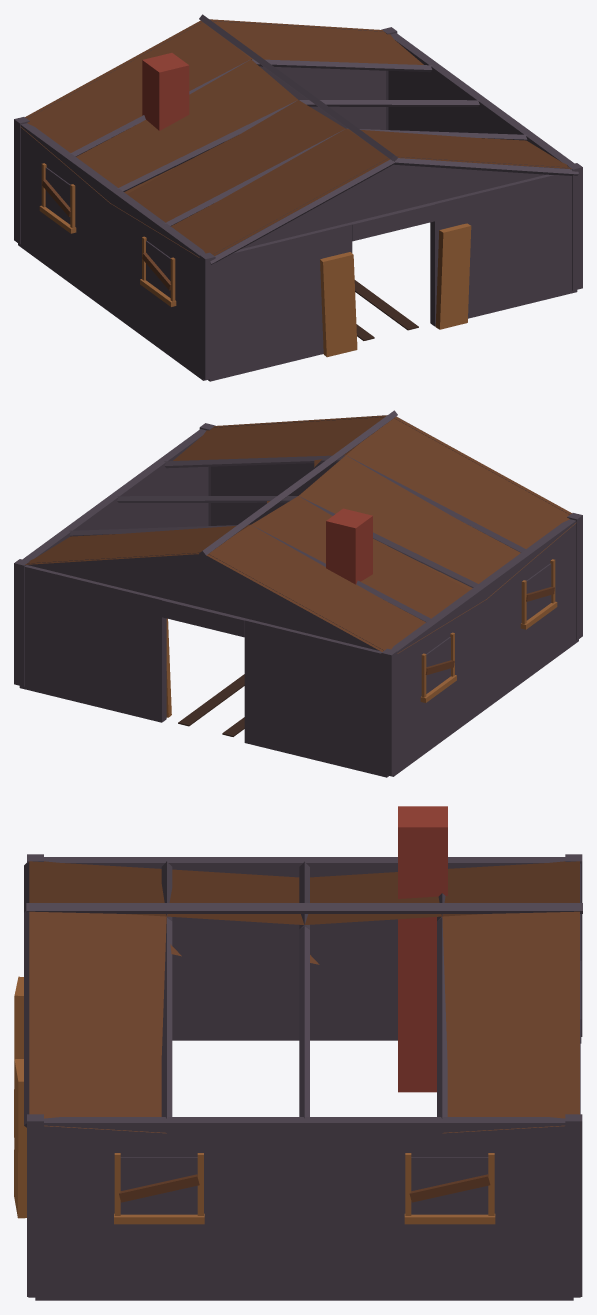
File: model.burned.lod1.glb
3 renders of one model, top to bottom at view 1: azimuth 30°, elevation 25°; view 2: azimuth 150°, elevation 25°; view 3: azimuth 270°, elevation 25°, orthographic. The views are drawn at different scales.
Visible parts, largest first — view 1: body; view 2: body; view 3: body.
Part boxes in pixels (x1=…): body: x1=14, y1=14, x2=582, y2=381; body: x1=14, y1=410, x2=582, y2=777; body: x1=14, y1=806, x2=582, y2=1300.
Size of the model in its own units: 8.41 by 4.11 by 7.4.
